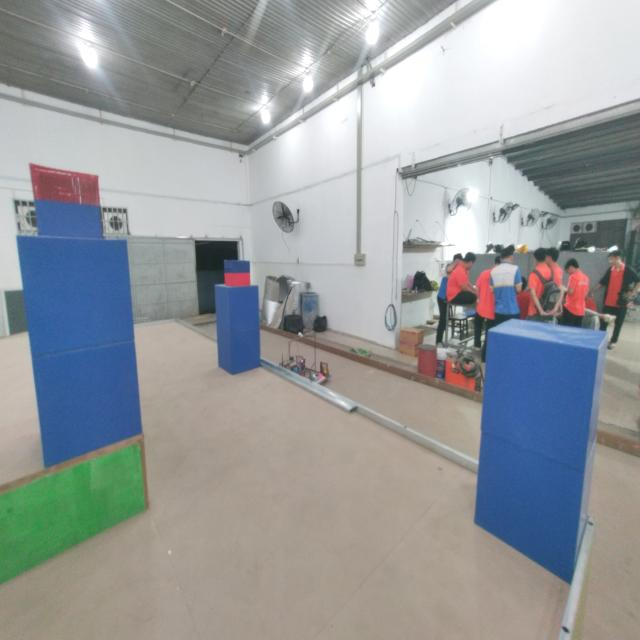earth_block: (13, 342, 143, 467), (14, 236, 143, 350), (215, 325, 261, 375), (213, 283, 263, 327)
sky_block: (22, 157, 108, 239), (223, 257, 252, 285)
